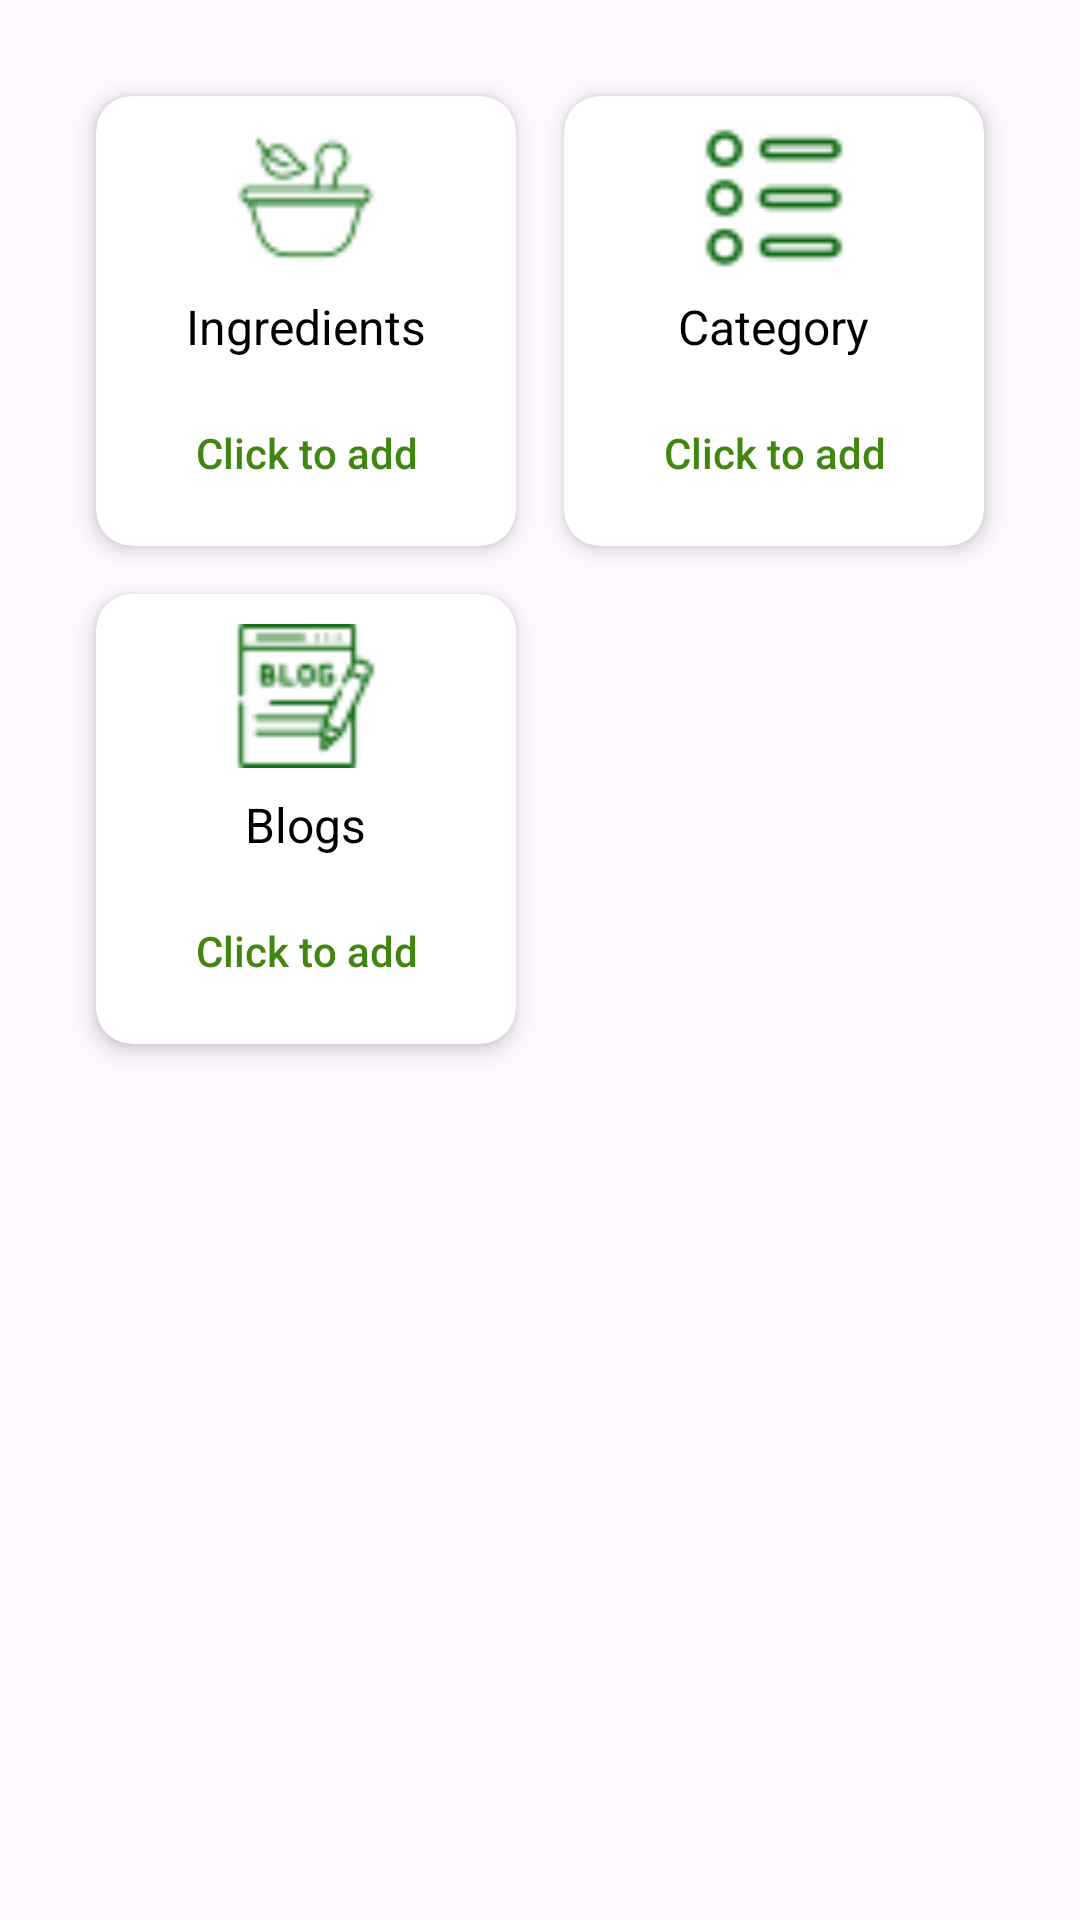

Screen size 1080x1920. Icon name, then its center in pixels as (x=x, y=y):
list: (x=774, y=198)
